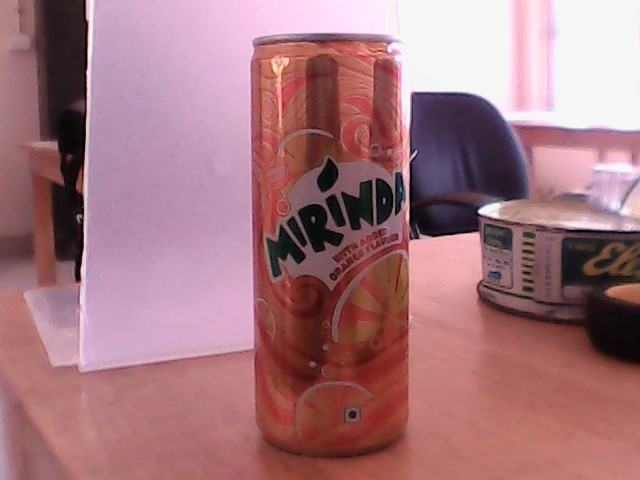Metal: (235, 33, 444, 480)
